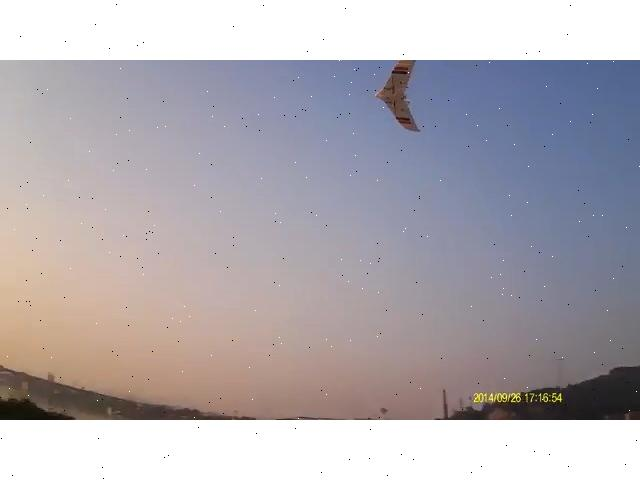Anti-Drone: (358, 60, 440, 134)
